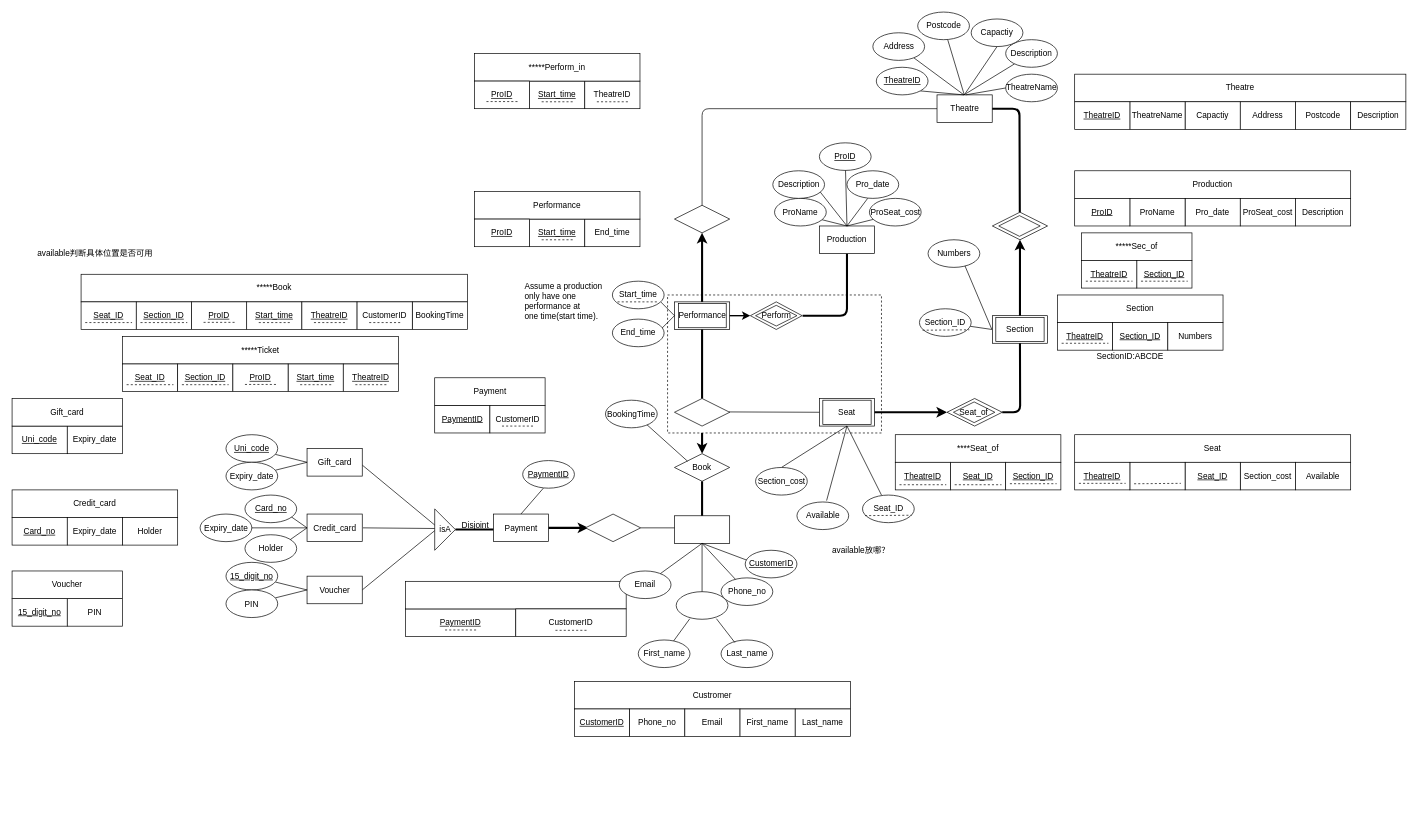
The diagram is 1418 pixels wide and 836 high, and some of its shapes have lost their labels. The centre of each missing label's shape, as x and y in pixels:
*****Pay: the point at 515,595
Customer: the point at 702,529
Name: the point at 702,605
Pay: the point at 613,527
Perform_in: the point at 702,219
Sec_of: the point at 1019,225
Section_type: the point at 1157,476
Ticket: the point at 702,412
